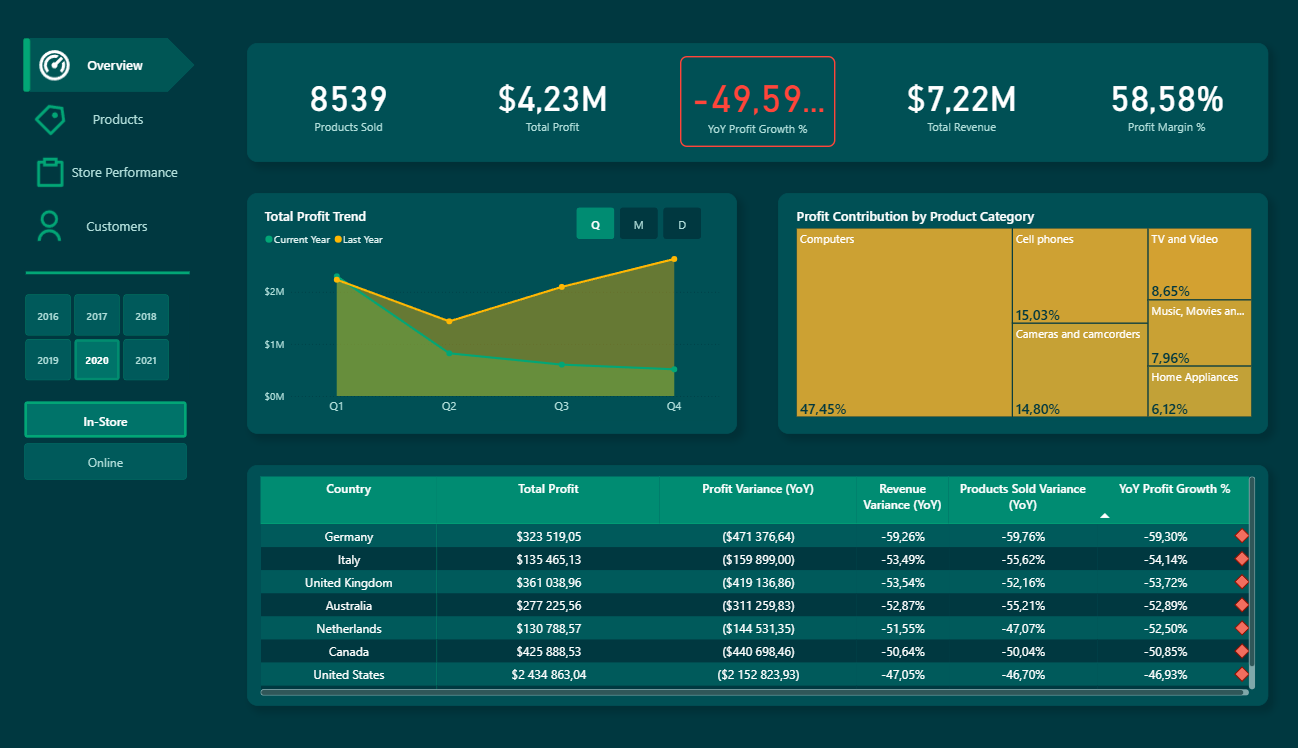

Layout of this report page (visuals, bound fields, positions):
{"tool":"powerbi","page":{"name":"Overview","canvas":[1920,1080],"ordinal":0},"visuals":[{"type":"shape","box":[355.7,65.7,1458.6,170],"z":0},{"type":"shape","box":[355.1,669,1459.1,344.5],"z":1000},{"type":"shape","box":[1114.6,279.3,699.6,344.5],"z":2000},{"type":"shape","box":[355.1,279.3,699.6,344.5],"z":3000},{"type":"areaChart","title":"Total Profit Trend","fields":{"Category":["Date_Table.Quarter"],"Y":["_Measures.TotalProfitUSD","_Measures.LastYearTotalProfit"]},"box":[375.1,300.6,659.7,304.6],"z":4000},{"type":"card","fields":{"Values":["_Measures.RevenueUSD"]},"box":[682,85,222,130],"z":5000},{"type":"card","fields":{"Values":["_Measures.TotalRevenue"]},"box":[1266,85,222,130],"z":6000},{"type":"card","fields":{"Values":["_Measures.Margin"]},"box":[1558,85,222,130],"z":7000},{"type":"card","fields":{"Values":["_Measures.YoY%_Profit"]},"box":[974,85,222,130],"z":8000},{"type":"treemap","title":"Profit Contribution by Product Category","fields":{"Values":["_Measures.TotalProfitUSD"],"Group":["Dim_Products.Category","Dim_Products.Subcategory"]},"box":[1135,300,660,305],"z":9000},{"type":"pivotTable","fields":{"Rows":["Dim_Stores.Country","Dim_Stores.StoreKey"],"Values":["_Measures.TotalProfitUSD","_Measures.YoY_Profit_Diff","_Measures.YoY_Revenue%","_Measures.YoY_Quantity%","_Measures.YoY%_Profit"]},"box":[369.8,679.7,1431.1,323.2],"z":10000},{"type":"card","fields":{"Values":["_Measures.CountItemsSold"]},"box":[390,85,222,130],"z":11000},{"type":"shape","title":"Menu Background","box":[0,0,280.6,1080],"z":12000},{"type":"shape","box":[35.9,381.7,242.1,25.3],"z":13000},{"type":"advancedSlicerVisual","fields":{"Values":["Date_Table.Year"]},"box":[9.3,416.3,263.3,142.3],"z":14000},{"type":"advancedSlicerVisual","fields":{"Values":["Dim_Stores.Online"]},"box":[27.9,569.3,250,130.3],"z":15000},{"type":"actionButton","box":[45.2,58.5,235.4,77.1],"z":16000},{"type":"actionButton","box":[45.2,135,235.4,77],"z":17000},{"type":"actionButton","box":[45.2,212,235,77],"z":18000},{"type":"actionButton","box":[45,289,235,77],"z":19000},{"type":"shape","box":[36,58.5,10.6,77.1],"z":20000},{"type":"advancedSlicerVisual","fields":{"Values":["AreaChart-Date.AreaChart-Date"]},"box":[822,295.3,188.9,55.9],"z":21000},{"type":"actionButton","box":[1748.6,0,65.7,65.7],"z":22000}]}

Visuals, with their boxes in screenshot pixels (x1, y1, x2, y2), scaled from the page's 1920x1080 canvas onto the 1298x748 screenshot:
shape: l=240, t=46, r=1227, b=163
shape: l=240, t=463, r=1226, b=702
shape: l=754, t=193, r=1226, b=432
shape: l=240, t=193, r=713, b=432
"Total Profit Trend" areaChart: l=254, t=208, r=700, b=419
card - _Measures.RevenueUSD: l=461, t=59, r=611, b=149
card - _Measures.TotalRevenue: l=856, t=59, r=1006, b=149
card - _Measures.Margin: l=1053, t=59, r=1203, b=149
card - _Measures.YoY%_Profit: l=658, t=59, r=809, b=149
"Profit Contribution by Product Category" treemap: l=767, t=208, r=1213, b=419
pivotTable - Dim_Stores.Country x Dim_Stores.StoreKey: l=250, t=471, r=1217, b=695
card - _Measures.CountItemsSold: l=264, t=59, r=414, b=149
"Menu Background" shape: l=0, t=0, r=190, b=747
shape: l=24, t=264, r=188, b=282
advancedSlicerVisual - Date_Table.Year: l=6, t=288, r=184, b=387
advancedSlicerVisual - Dim_Stores.Online: l=19, t=394, r=188, b=485
actionButton: l=31, t=41, r=190, b=94
actionButton: l=31, t=93, r=190, b=147
actionButton: l=31, t=147, r=189, b=200
actionButton: l=30, t=200, r=189, b=253
shape: l=24, t=41, r=32, b=94
advancedSlicerVisual - AreaChart-Date.AreaChart-Date: l=556, t=205, r=683, b=243
actionButton: l=1182, t=0, r=1227, b=46
